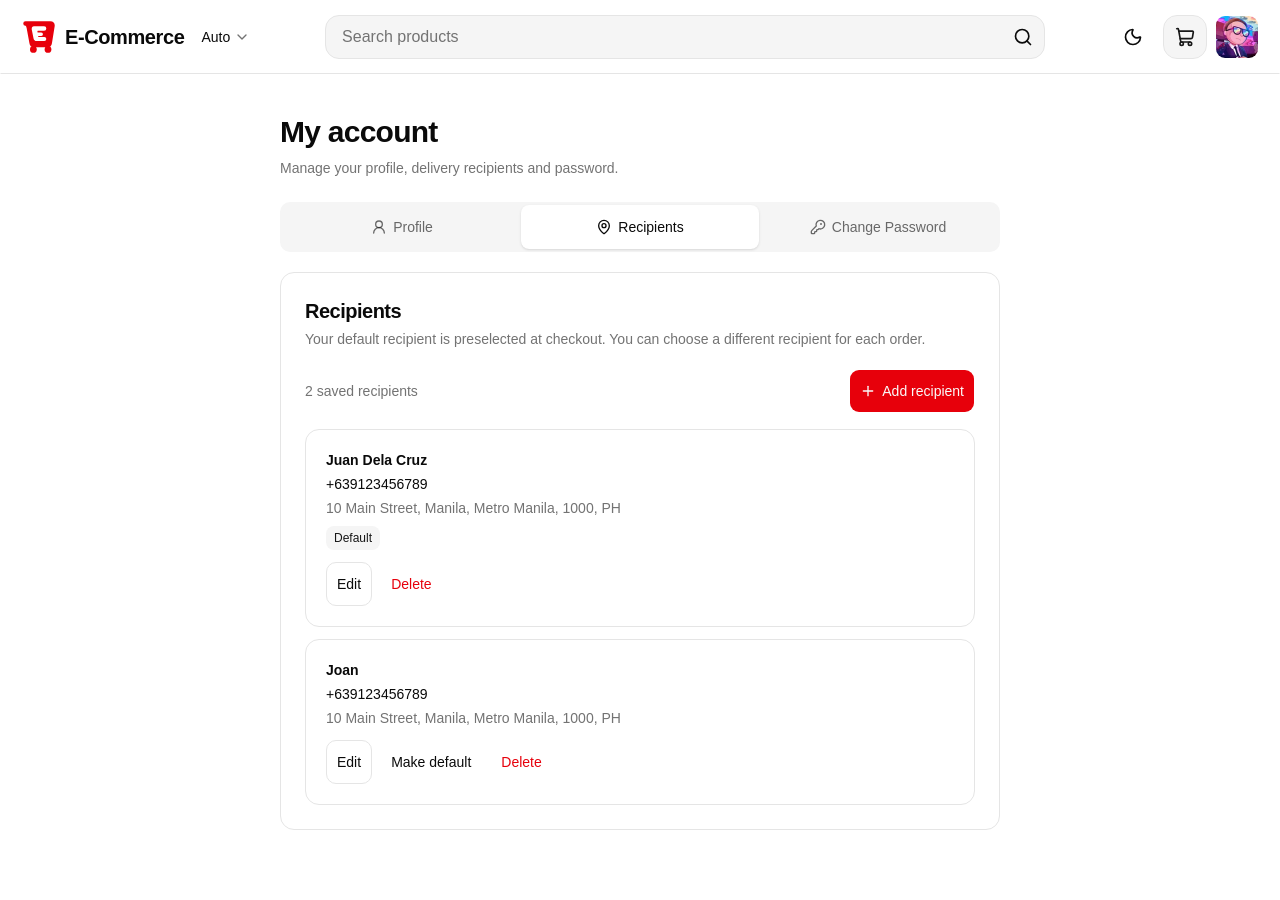
Scenario: an unconfirmed save with a failed reload blocks another mutation until reconciliation
Click the button with aria-label "Edit Joan" at (349, 762), box [326, 740, 372, 784]
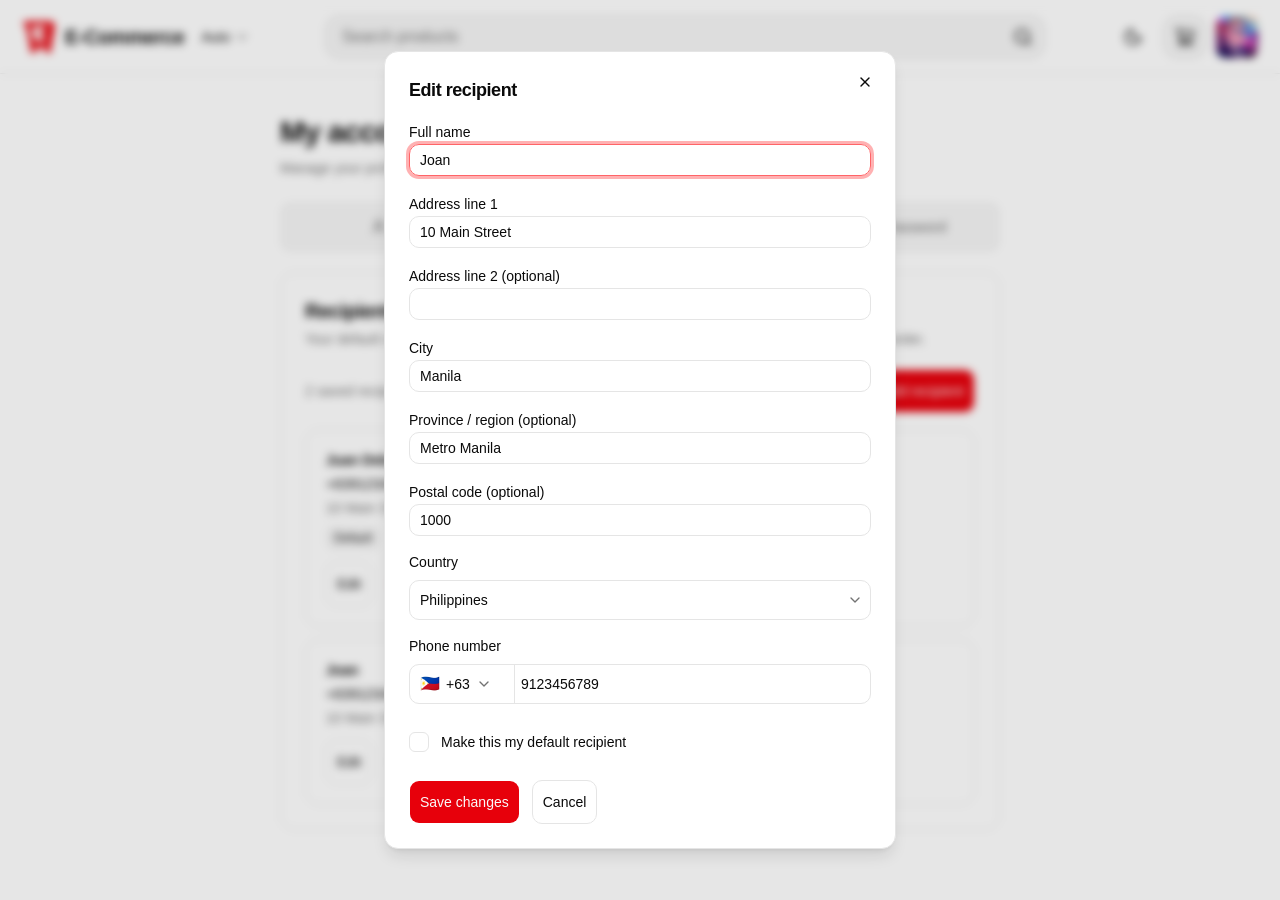
Click the button "Save changes" at (464, 802), box [409, 780, 520, 824]
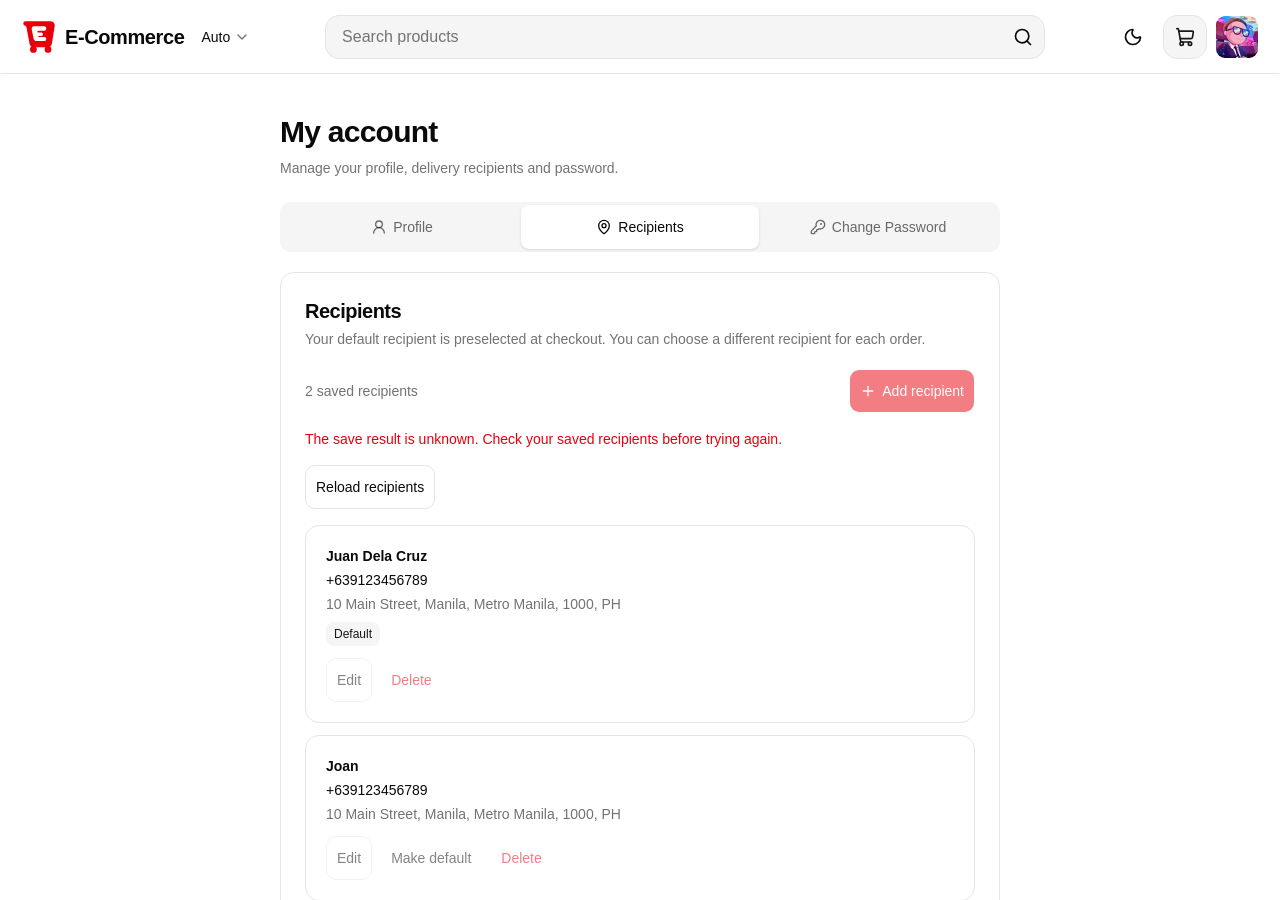
Expected: the button "Add recipient" is disabled, [849, 369, 975, 413]
Click the button "Reload recipients" at (370, 487), box [305, 465, 435, 509]
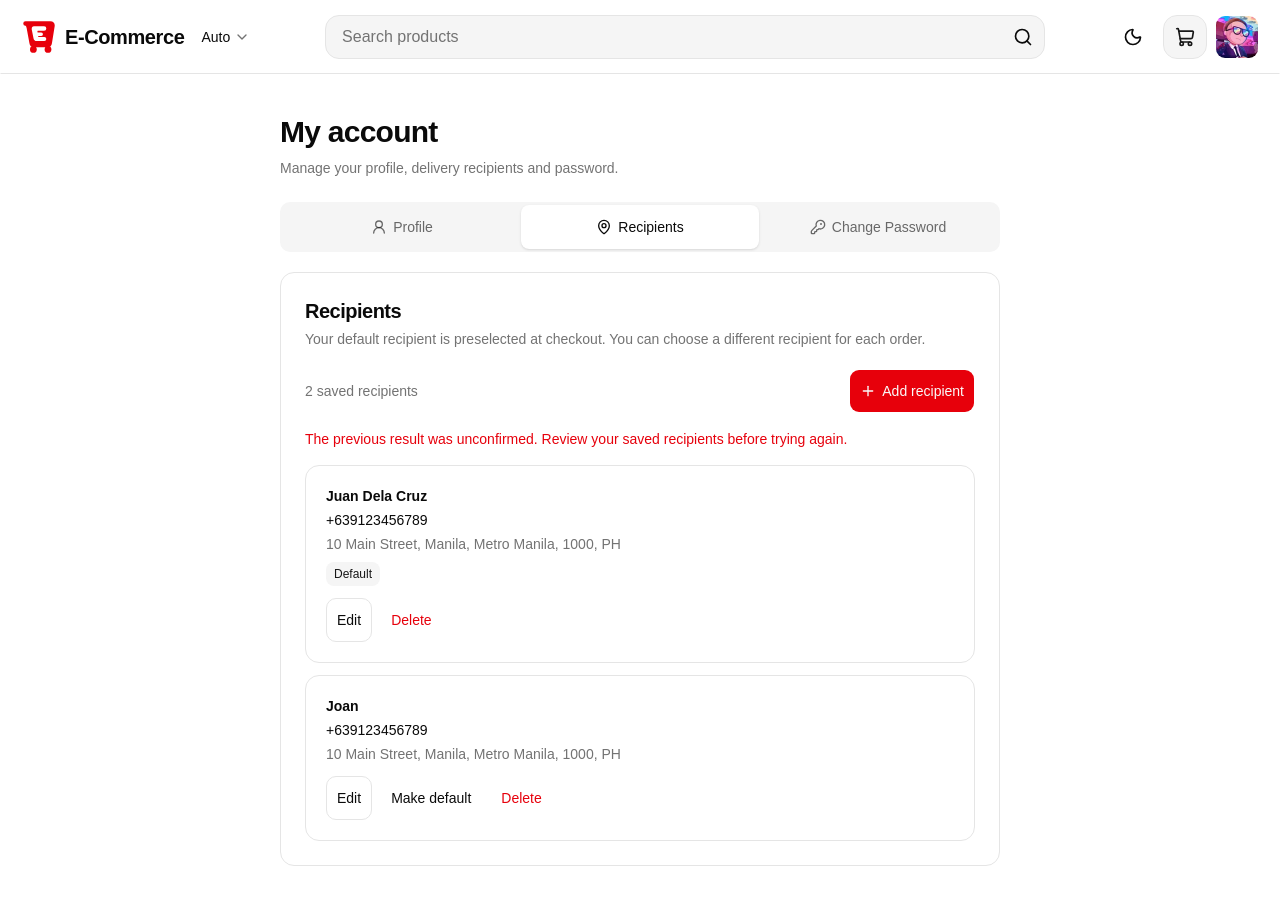
Expected: the button "Add recipient" is enabled, [849, 369, 975, 413]
